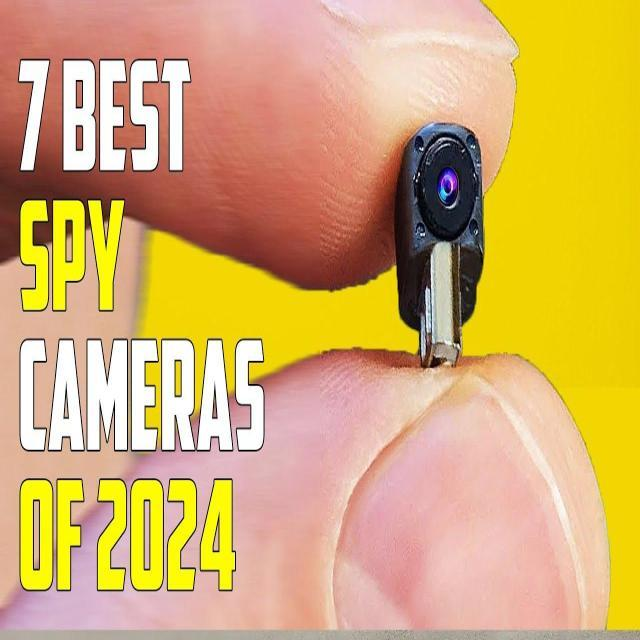hidden camera: (438, 165, 460, 208)
